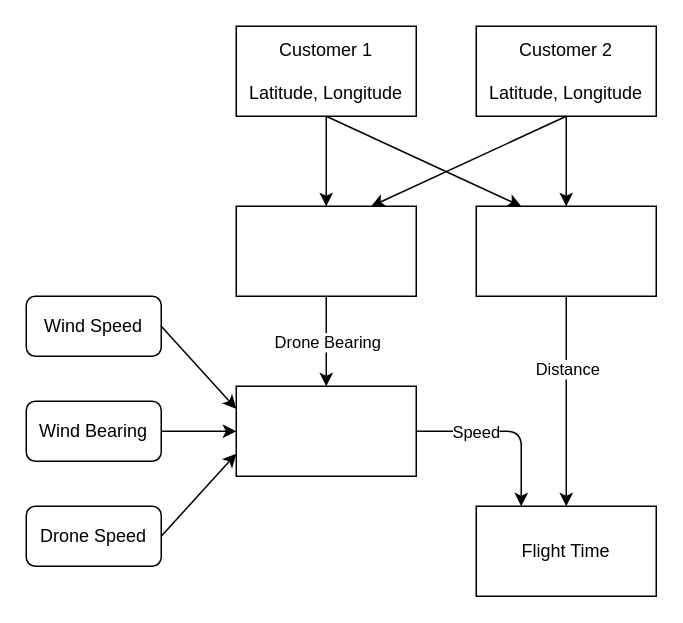
The diagram is 683 pixels wide and 623 high, and some of its shapes have lost their labels. Here are the shapes that lost their labels. From the top down, the box of each, then its label:
(235, 205, 416, 296): Forward Azimuth Formula
(475, 205, 656, 296): Haversine Formula
(235, 385, 416, 476): E6B
